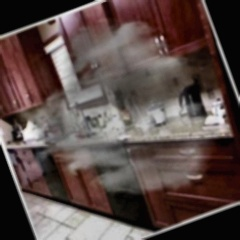smoke: (38, 35, 199, 190)
